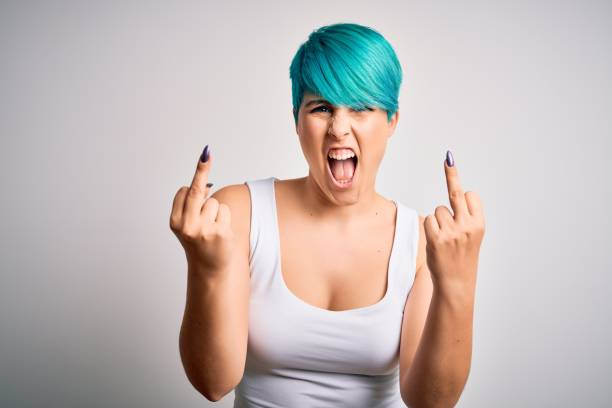insulting_gesture: (424, 150, 488, 278), (169, 141, 232, 267)
